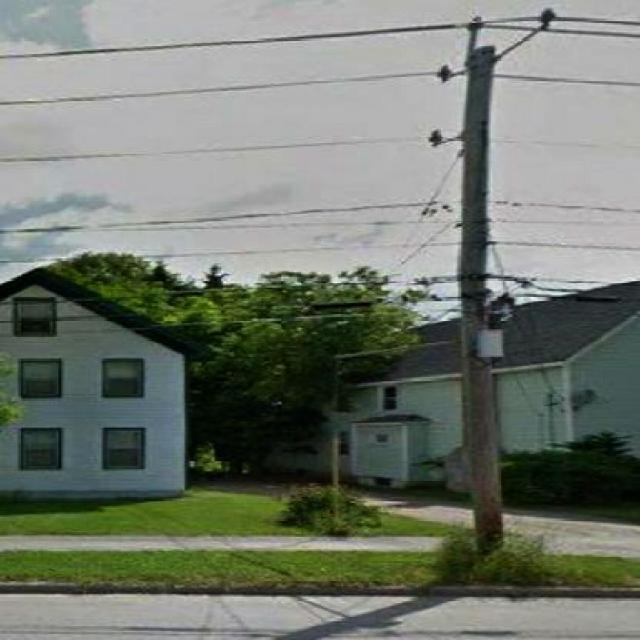pole: (458, 26, 503, 557)
transformer: (475, 306, 506, 366)
wire: (0, 195, 640, 235), (0, 22, 640, 60), (0, 68, 640, 106), (0, 128, 631, 163)
